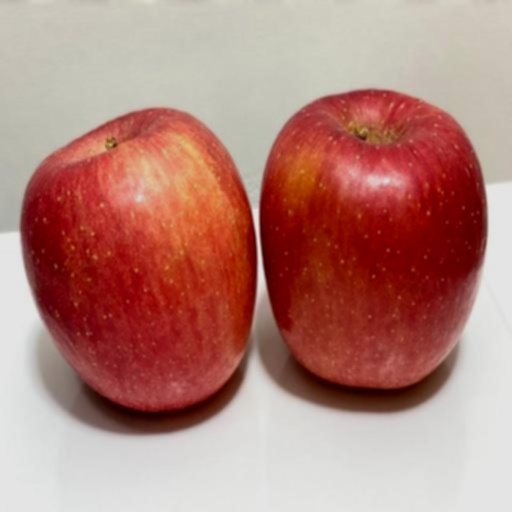fruit: (124, 132, 388, 470), (447, 133, 501, 475)
